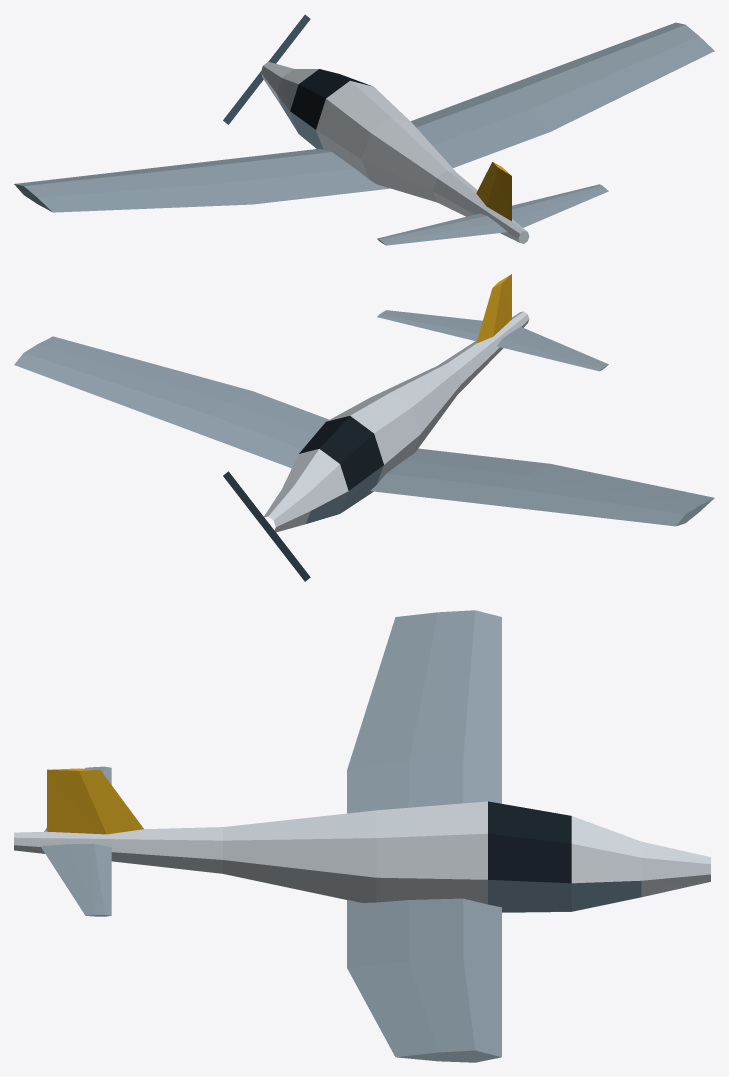
3 renders of one model, top to bottom at view 1: azimuth 30°, elevation 25°; view 2: azimuth 150°, elevation 25°; view 3: azimuth 270°, elevation 25°, orthographic. The views are drawn at different scales.
Visible parts, largest first — view 1: lod0; view 2: lod0; view 3: lod0.
Part boxes in pixels (<box>): lod0: <box>14,14,714,245</box>; lod0: <box>14,274,714,581</box>; lod0: <box>14,610,710,1062</box>.
Size of what is drawn, in the model's own units: 1.49 by 0.2558 by 1.
